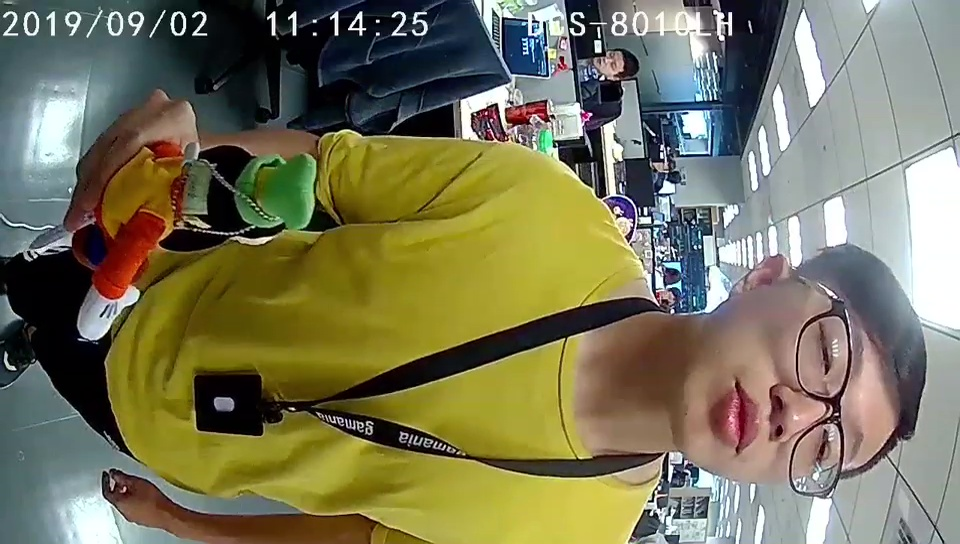goofy: (74, 150, 317, 342)
